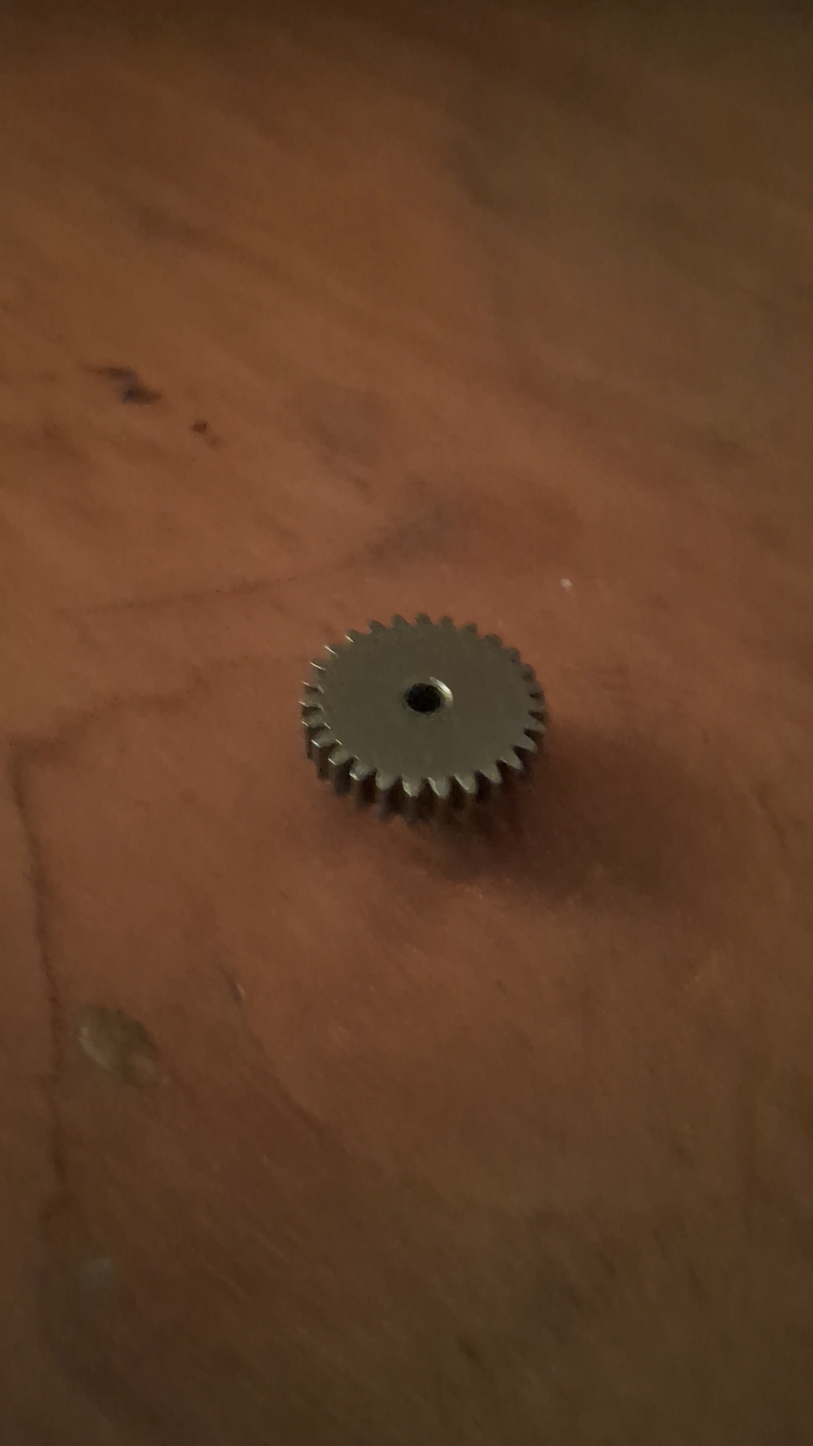spur gear: (301, 615, 545, 820)
